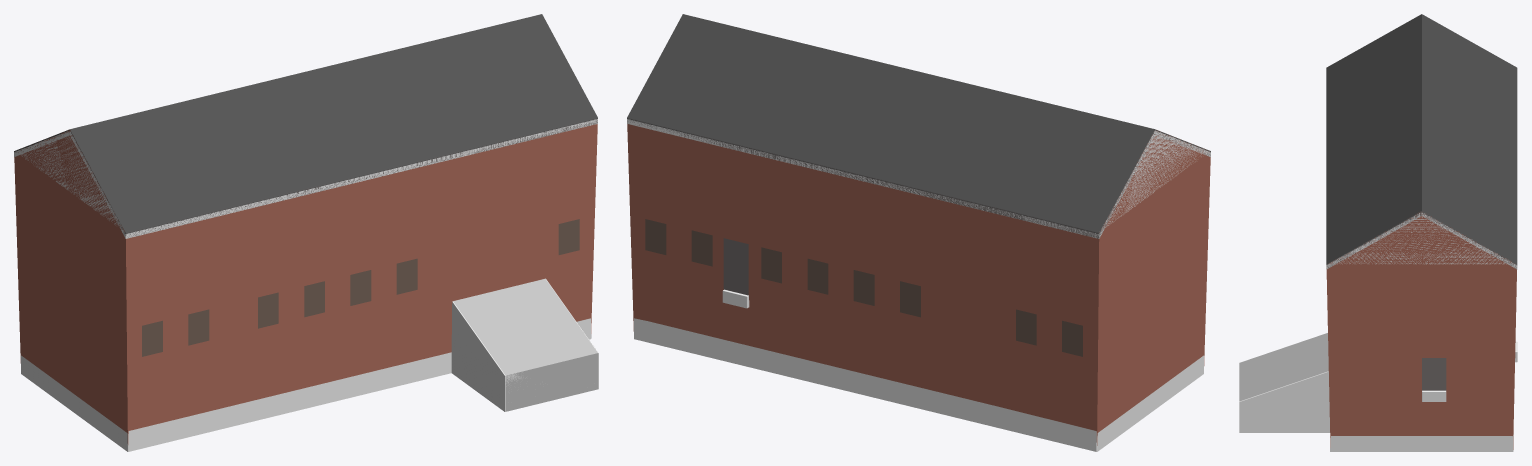
The model's file is eca_bld_warehouse_02_a.dae.
3 views of the same model, side by side, from view 1: azimuth 30°, elevation 25°; view 2: azimuth 150°, elevation 25°; view 3: azimuth 270°, elevation 25° (orthographic). The views are drawn at different scales.
Parts seen in each view (by area): view 1: eca_bld_warehouse_02_a_a20, eca_bld_warehouse_02_a_a200, eca_bld_warehouse_02_a_a1200, Colmesh-1; view 2: eca_bld_warehouse_02_a_a20, eca_bld_warehouse_02_a_a200, eca_bld_warehouse_02_a_a1200, Colmesh-1; view 3: eca_bld_warehouse_02_a_a20, eca_bld_warehouse_02_a_a200, eca_bld_warehouse_02_a_a1200, Colmesh-1.
Part boxes in pixels (x1,y1,x2,y2): eca_bld_warehouse_02_a_a20: [14, 14, 597, 444]; eca_bld_warehouse_02_a_a200: [16, 69, 598, 411]; eca_bld_warehouse_02_a_a1200: [14, 117, 598, 451]; Colmesh-1: [16, 132, 522, 379]; eca_bld_warehouse_02_a_a20: [627, 14, 1210, 445]; eca_bld_warehouse_02_a_a200: [627, 69, 1210, 356]; eca_bld_warehouse_02_a_a1200: [627, 117, 1210, 451]; Colmesh-1: [1101, 130, 1201, 229]; eca_bld_warehouse_02_a_a20: [1326, 14, 1516, 449]; eca_bld_warehouse_02_a_a200: [1239, 42, 1517, 401]; eca_bld_warehouse_02_a_a1200: [1239, 211, 1517, 451]; Colmesh-1: [1329, 213, 1512, 264].
Bounding box in the file's own units: 20.4 × 12.2 × 13.37.
